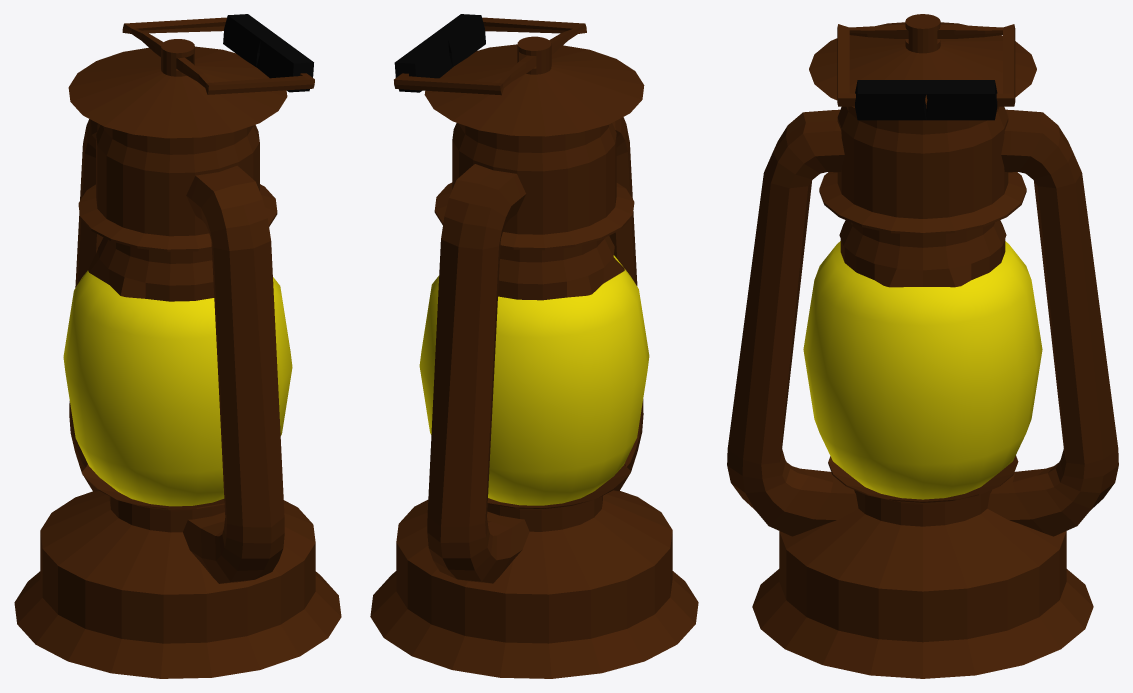
Rendered from Lamparina.fbx.
3 views of the same model, side by side, from view 1: azimuth 30°, elevation 25°; view 2: azimuth 150°, elevation 25°; view 3: azimuth 270°, elevation 25° (orthographic). The views are drawn at different scales.
Visible parts, largest first — view 1: Cima; view 2: Cima; view 3: Cima.
Boxes of the visible parts, box(x1,y1,x2,y2) form: Cima: box(14, 14, 341, 678); Cima: box(370, 14, 698, 678); Cima: box(727, 14, 1118, 678).
Size of the model in its own units: 132 by 250 by 151.
